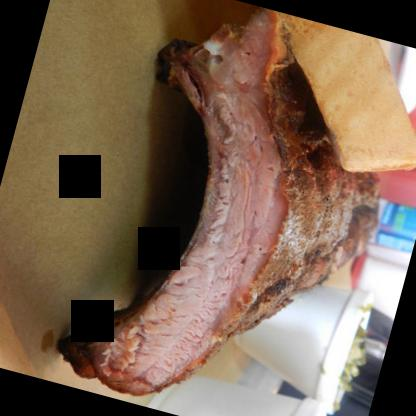pork rib: (44, 0, 415, 415)
